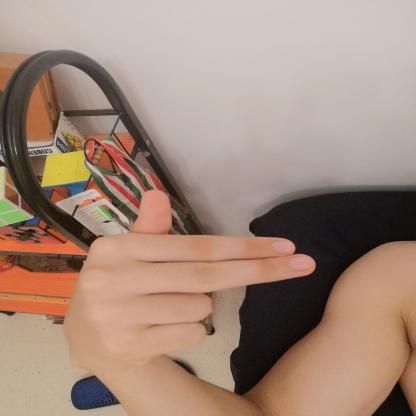GHAYN: (51, 181, 326, 393)
